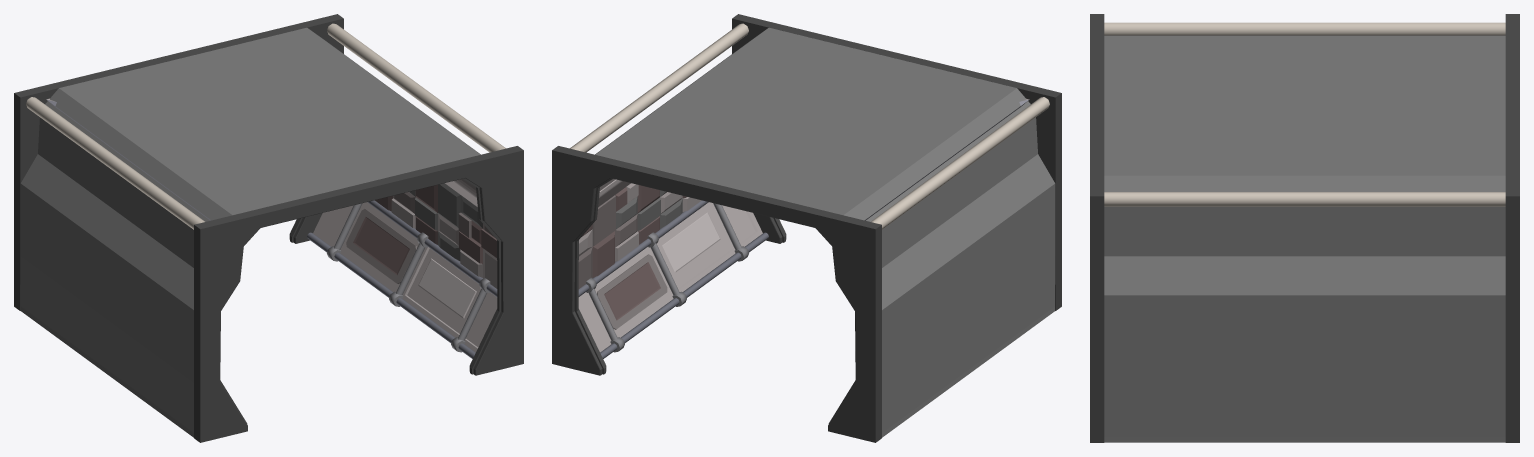
File: Hallway_Module_Straight_02.glb
3 renders of one model, left to right at view 1: azimuth 30°, elevation 25°; view 2: azimuth 150°, elevation 25°; view 3: azimuth 270°, elevation 25°, orthographic. The views are drawn at different scales.
Visible parts, largest first — view 1: Hallway_Module_Straight_02; view 2: Hallway_Module_Straight_02; view 3: Hallway_Module_Straight_02.
Part boxes in pixels (x1,y1,x2,y2): Hallway_Module_Straight_02: (14, 14, 523, 442); Hallway_Module_Straight_02: (552, 14, 1061, 442); Hallway_Module_Straight_02: (1090, 14, 1519, 442).
Size of what is drawn, in the model's own units: 6.02 by 3.82 by 6.
Materials: 1 (1 with a texture image).
